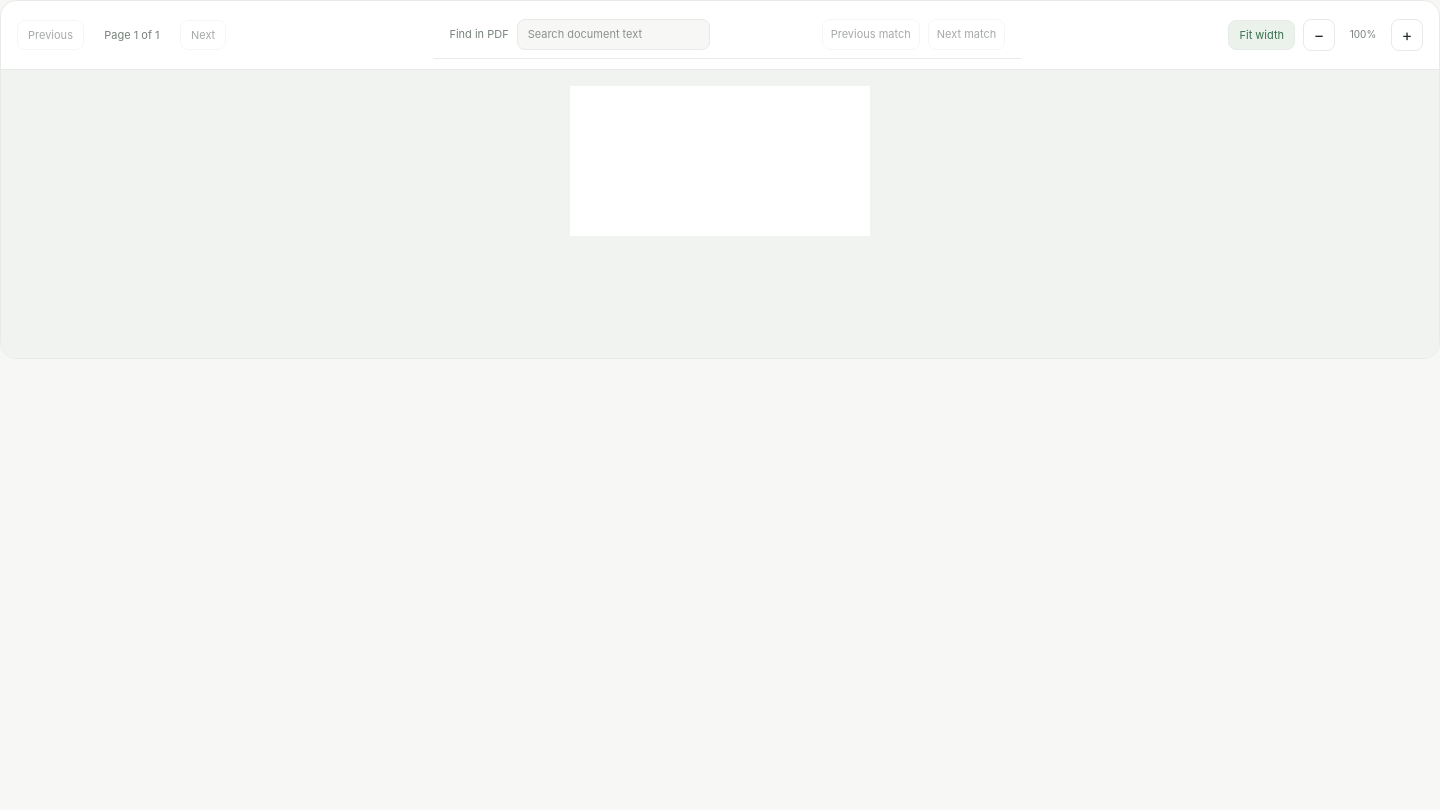
Scenario: PdfViewer › reports local text extraction failures without losing the viewer controls
The width and height of the screenshot is (1440, 810).
Type "notes" into the search field named "Search PDF text" at (613, 34), box left=517, top=19, right=710, bottom=50
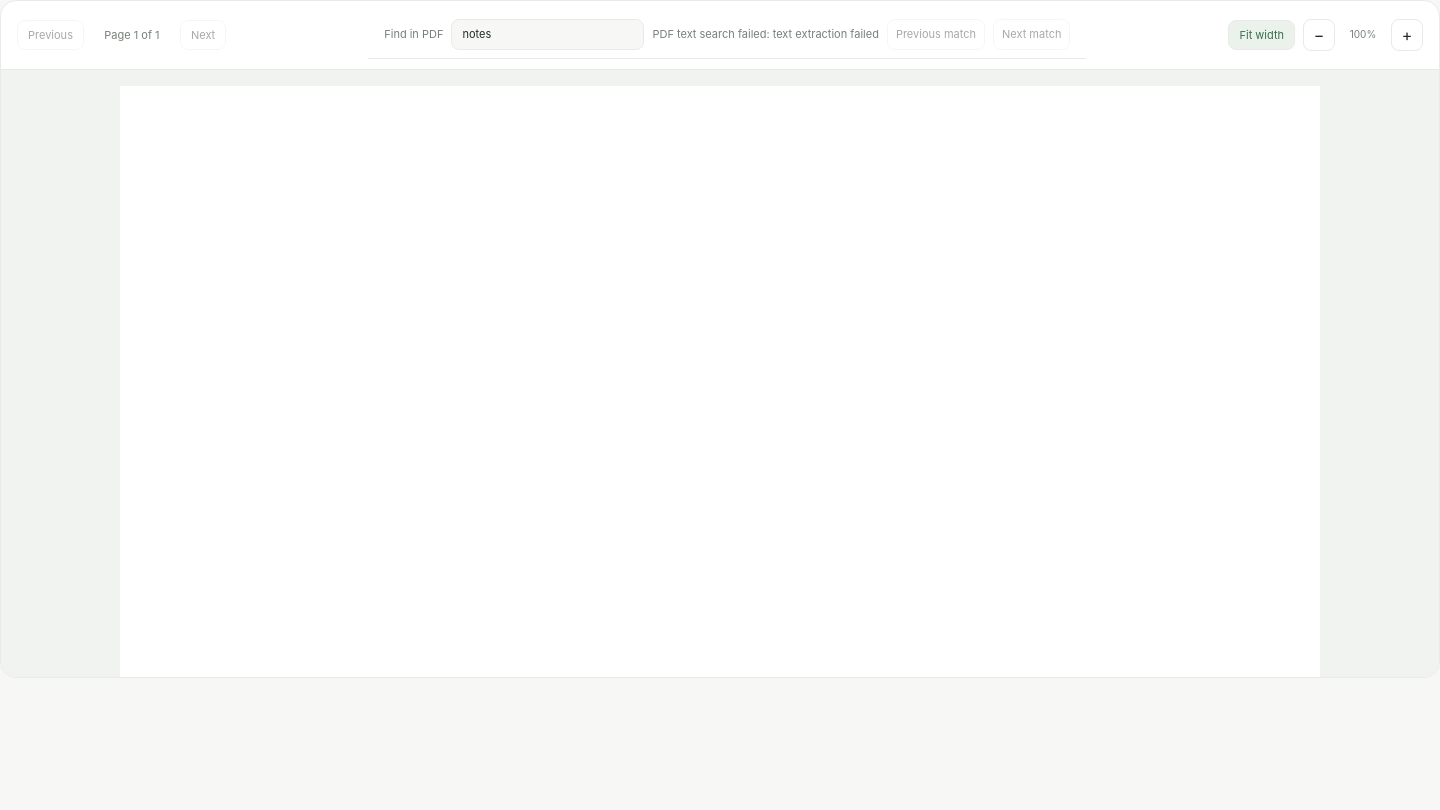
Expected: the button with aria-label "Previous PDF page" is shown, left=17, top=20, right=84, bottom=50
Now the text "PDF text search failed: text extraction failed" is shown, box left=652, top=26, right=879, bottom=42
